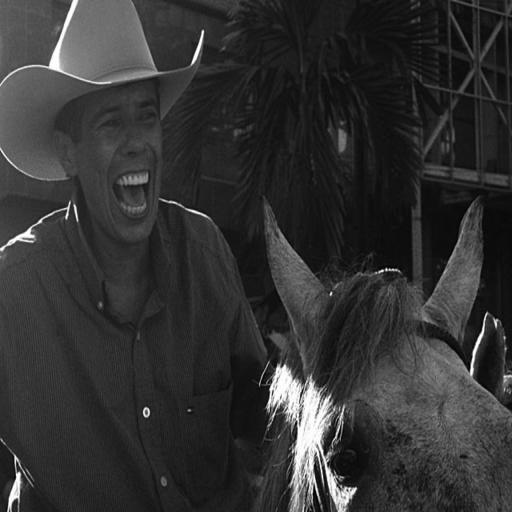horse: (244, 193, 512, 511)
